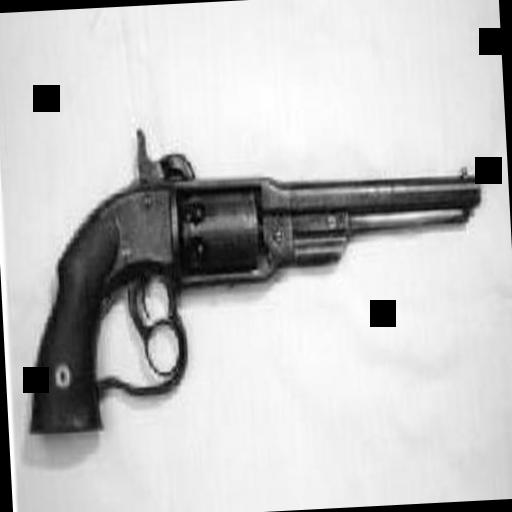Handgun: (10, 89, 496, 436)
